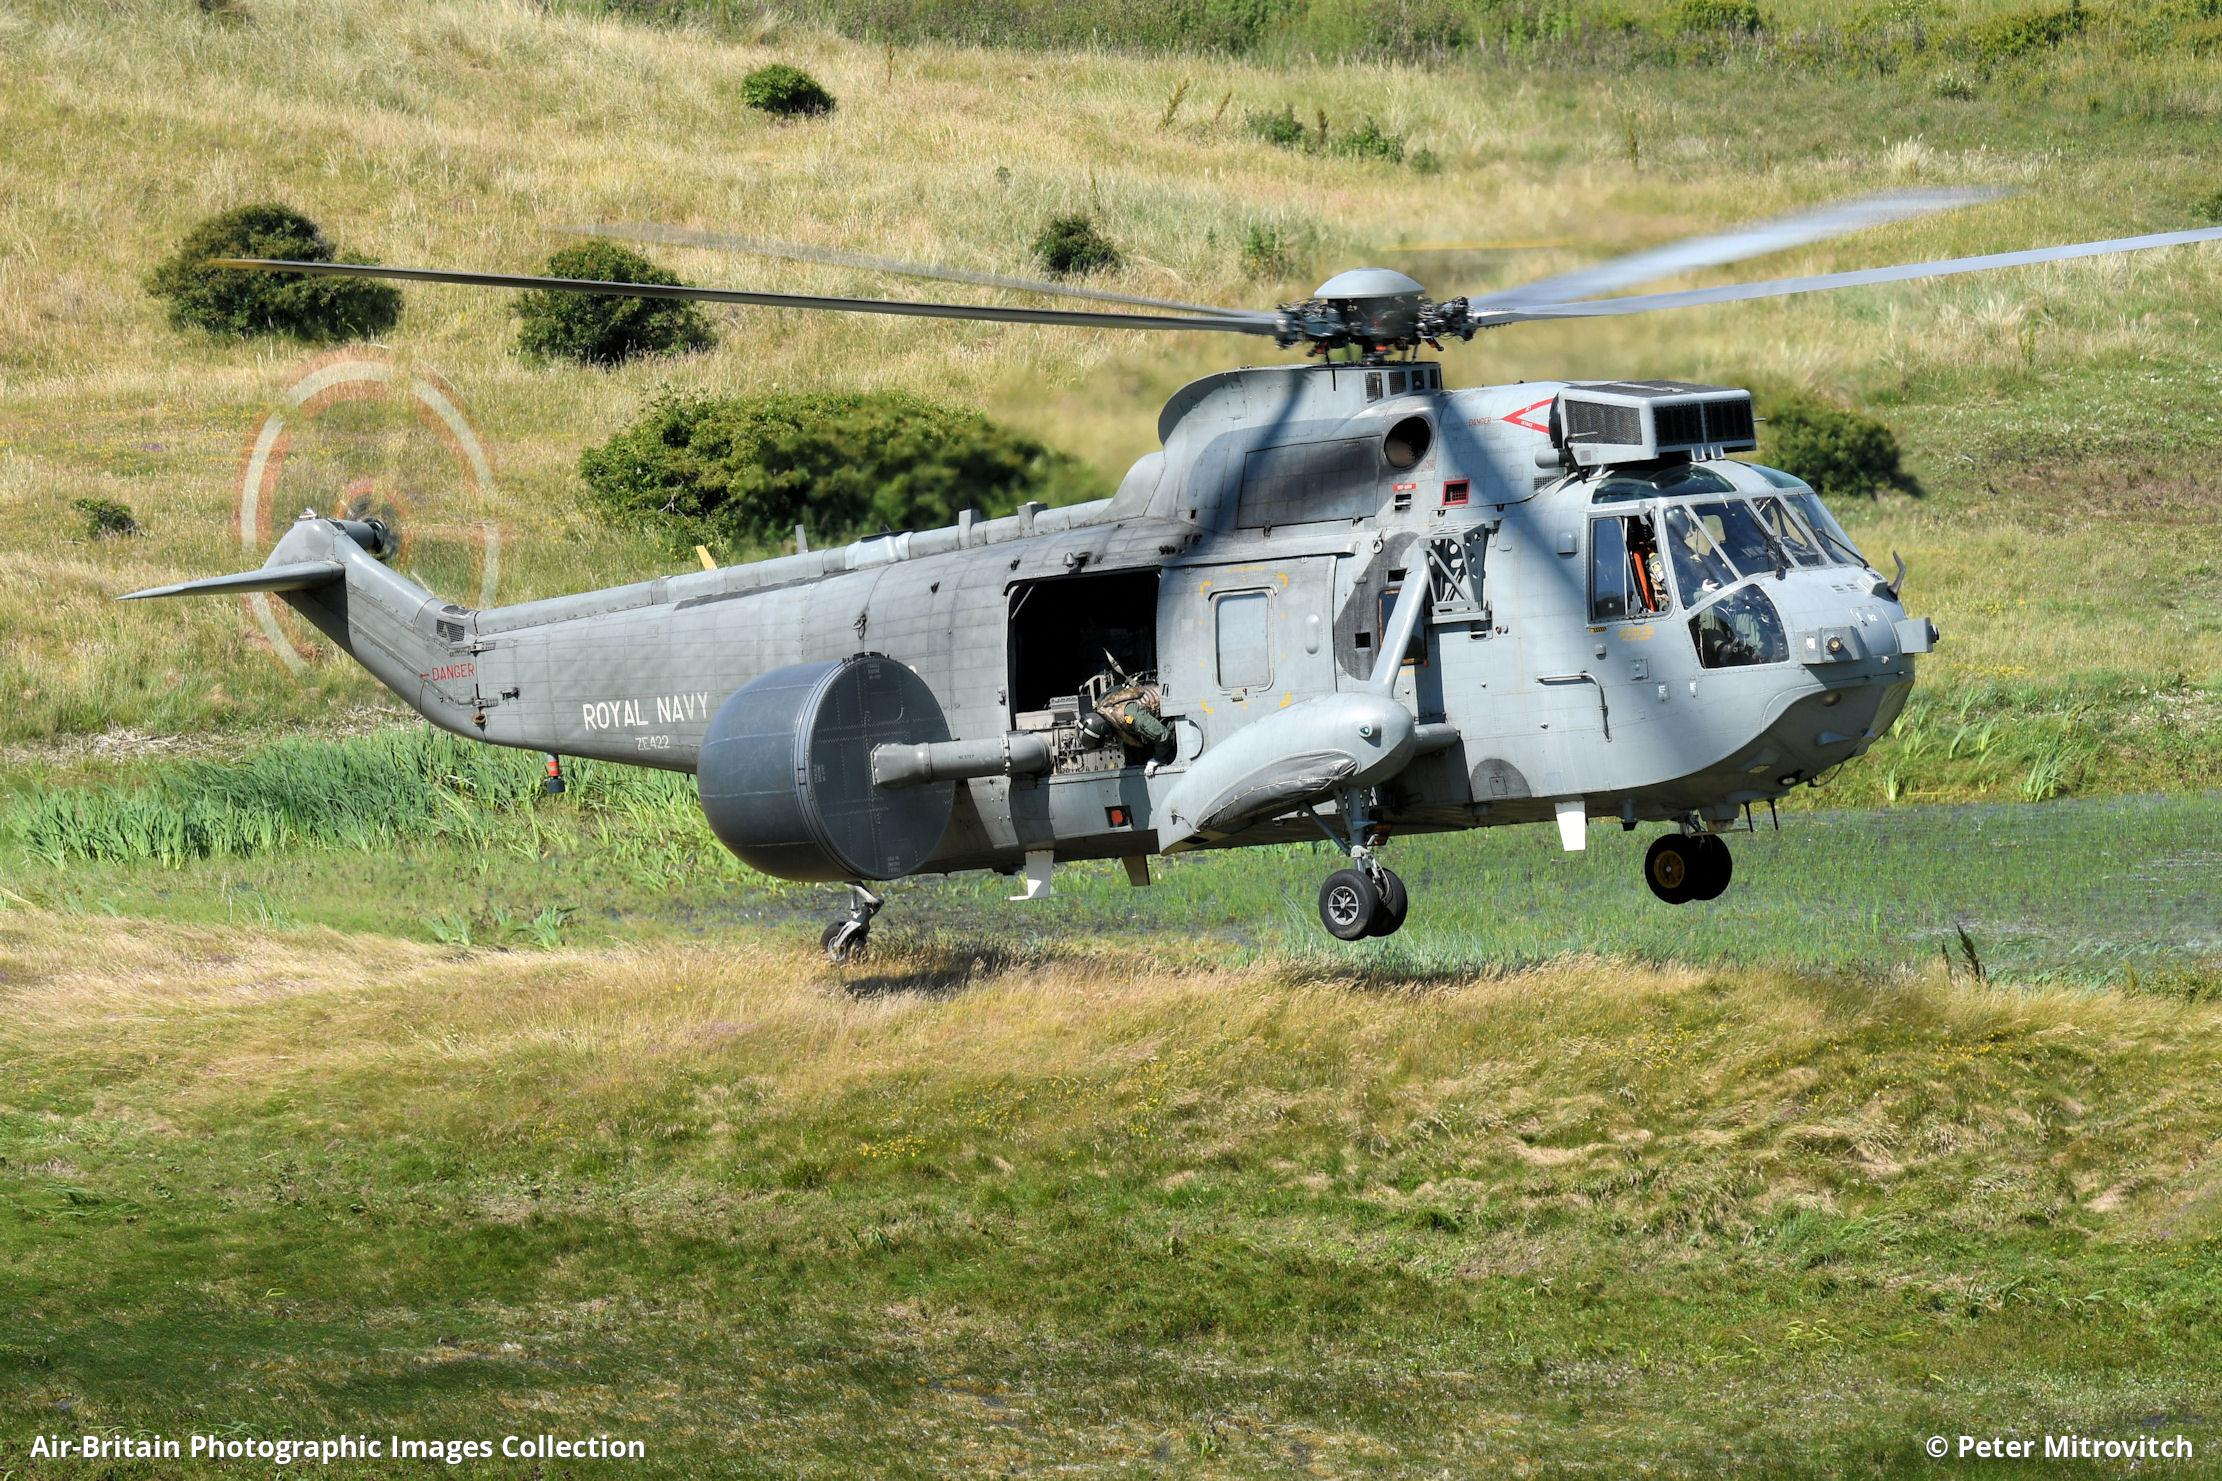Sea King: (93, 235, 1971, 987)
